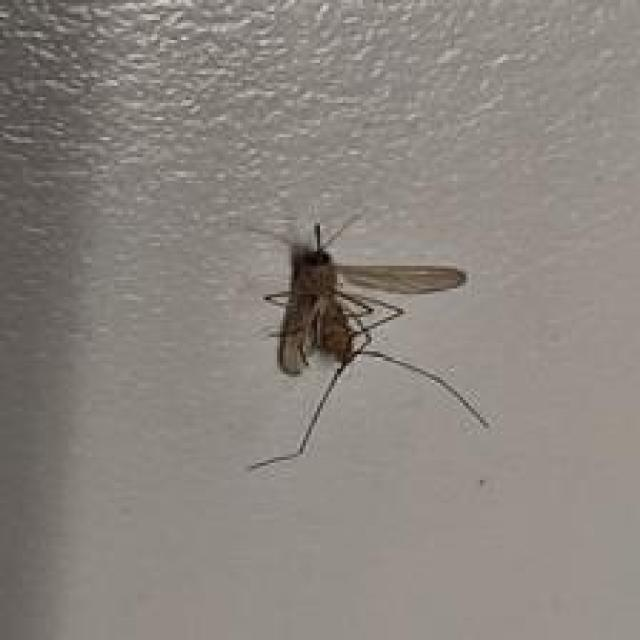Culex: (233, 208, 490, 472)
